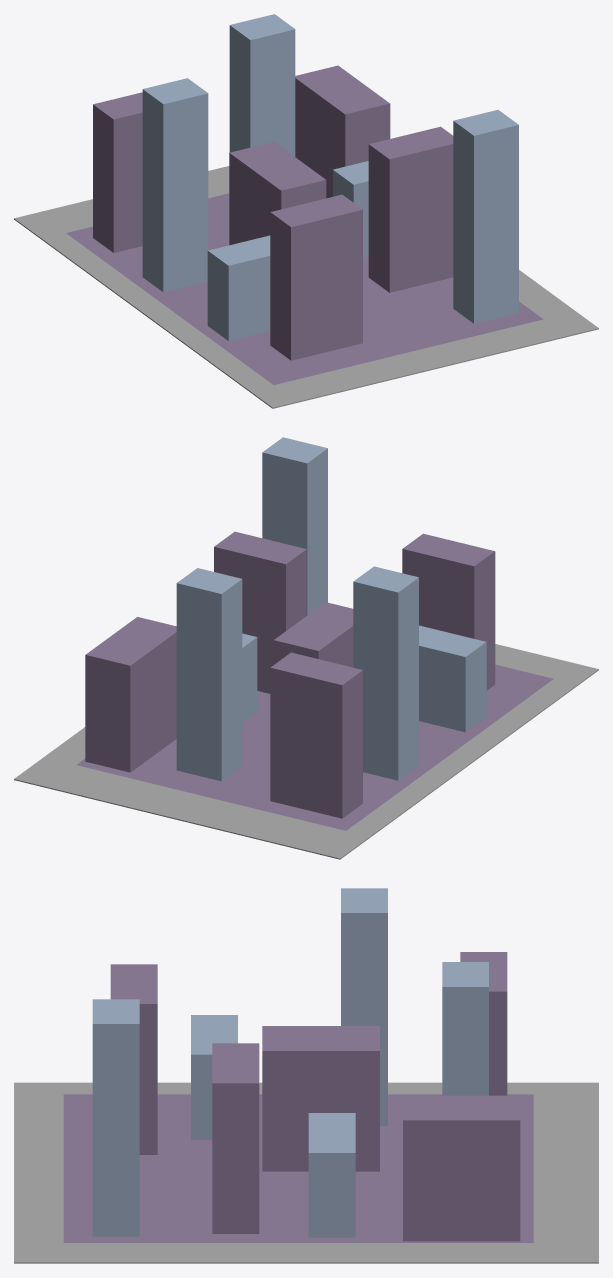
File: transition.fbx
3 views of the same model, one above another, from view 1: azimuth 30°, elevation 25°; view 2: azimuth 150°, elevation 25°; view 3: azimuth 270°, elevation 25° (orthographic). The views are drawn at different scales.
Parts seen in each view (by area): view 1: transition4_small_building13; view 2: transition4_small_building13; view 3: transition4_small_building13.
Part boxes in pixels (x1,y1,x2,y2): transition4_small_building13: [14, 14, 598, 408]; transition4_small_building13: [14, 437, 598, 859]; transition4_small_building13: [14, 888, 598, 1263].
Size of the model in its own units: 36.25 by 20.2 by 49.82.
